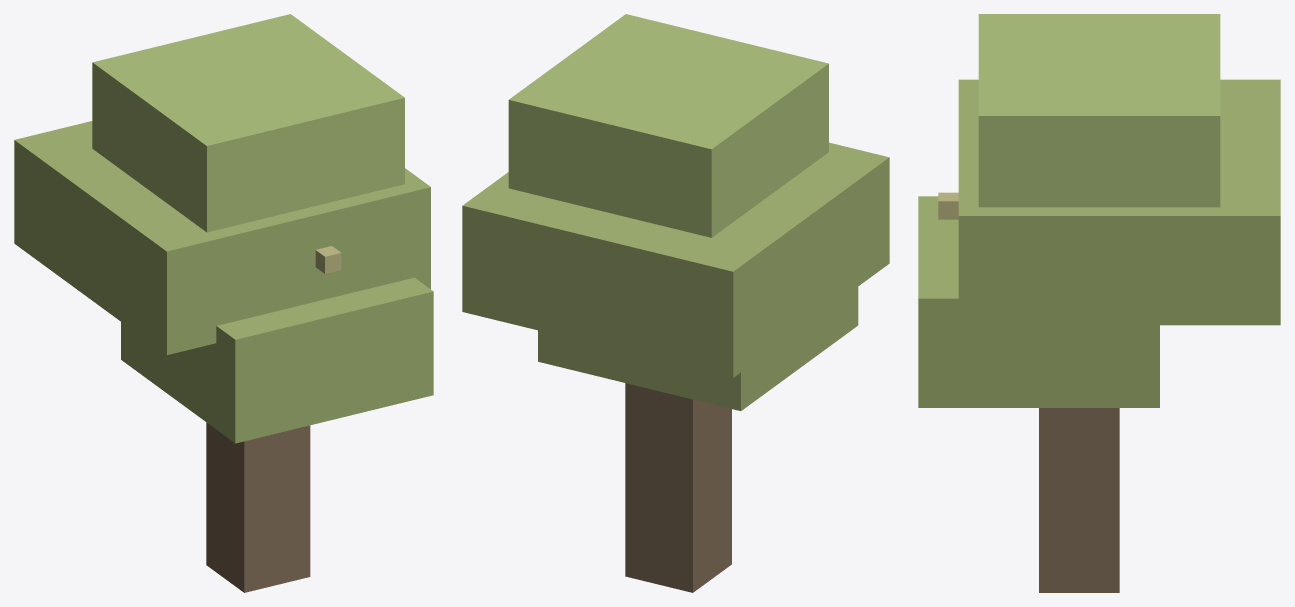
The model's file is peral_silvestre_01.glb.
3 renders of one model, left to right at view 1: azimuth 30°, elevation 25°; view 2: azimuth 150°, elevation 25°; view 3: azimuth 270°, elevation 25°, orthographic. The views are drawn at different scales.
Visible parts, largest first — view 1: peral_silvestre_01; view 2: peral_silvestre_01; view 3: peral_silvestre_01.
Boxes of the visible parts, x1,y1,x2,y2 form: peral_silvestre_01: [14, 14, 433, 592]; peral_silvestre_01: [462, 14, 889, 592]; peral_silvestre_01: [918, 14, 1280, 592].
Size of the model in its own units: 1.6 by 2.8 by 1.8.
